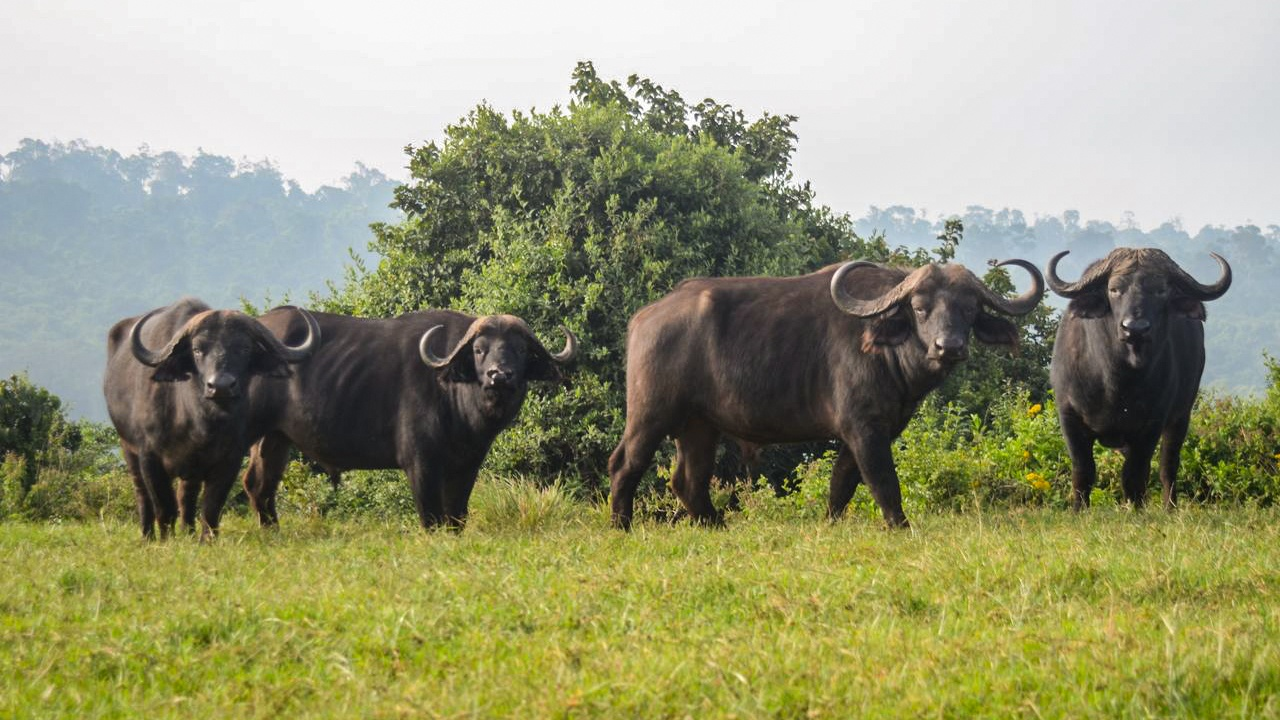buffalo: (601, 254, 1050, 537), (246, 308, 579, 533), (98, 299, 320, 544), (1044, 243, 1232, 516)
